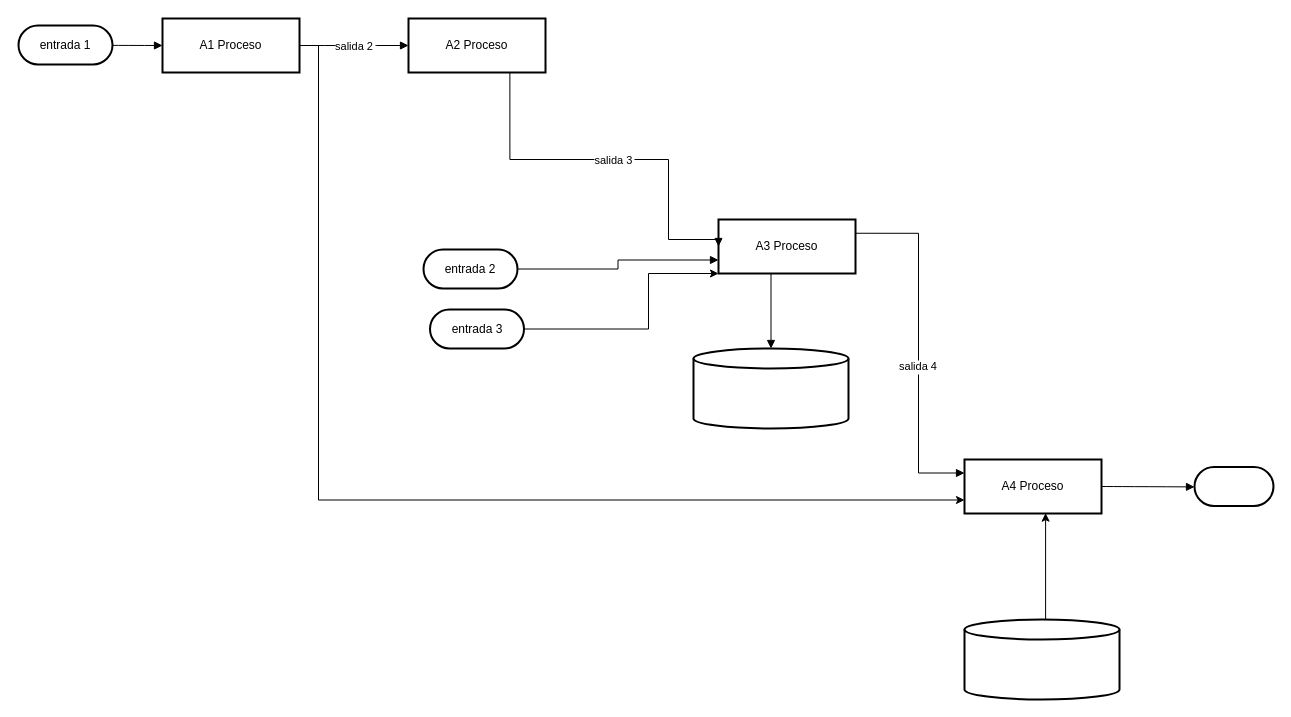
This 1291x717 diagram has some shape labels left out. The shapes that lost their labels are listed below. From the top down, each one's centre as x and y in pixels, then its label:
point 770,388: 1 Almacén de datos
point 1233,486: salida 1
point 1041,659: 2 Almacén de datos
